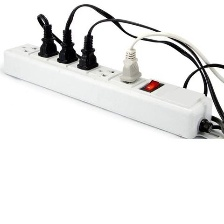three_eye_plug: (1, 37, 216, 141)
